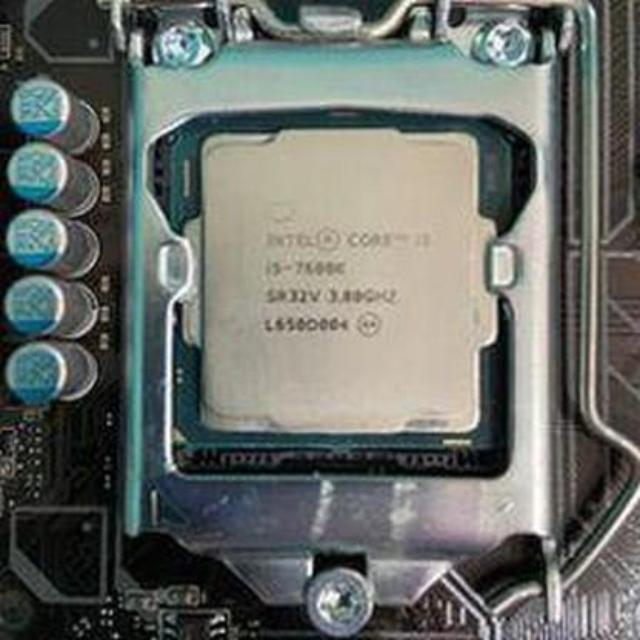CPU: (137, 68, 520, 506)
